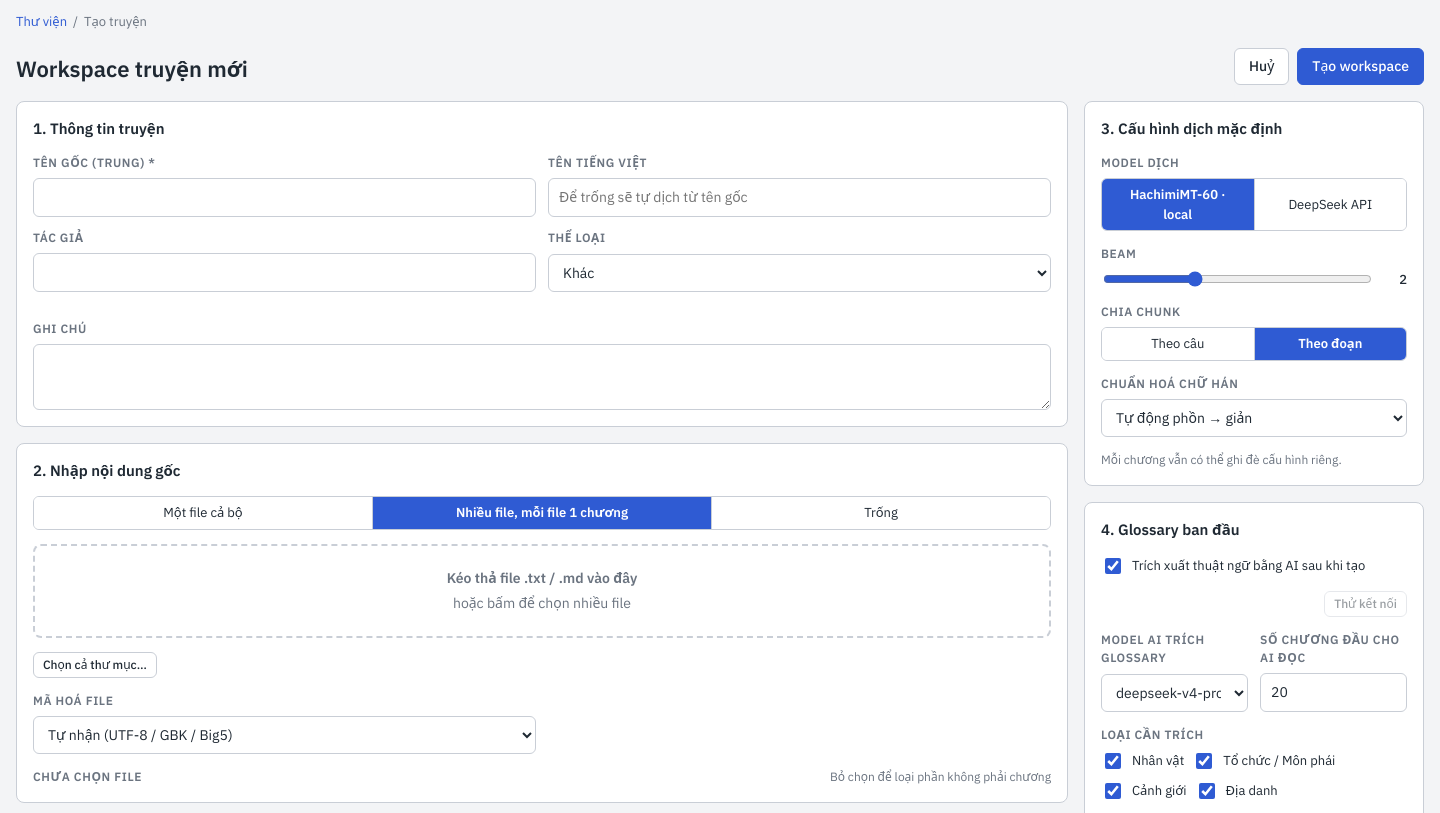
it: bỏ trống tên gốc thì không gửi request và focus ô tên gốc
The width and height of the screenshot is (1440, 813).
What coordinates should you click on to do the following:
click the button "Trống"
I would click on:
 (880, 513)
Its box is x1=711 y1=497 x2=1050 y2=529.
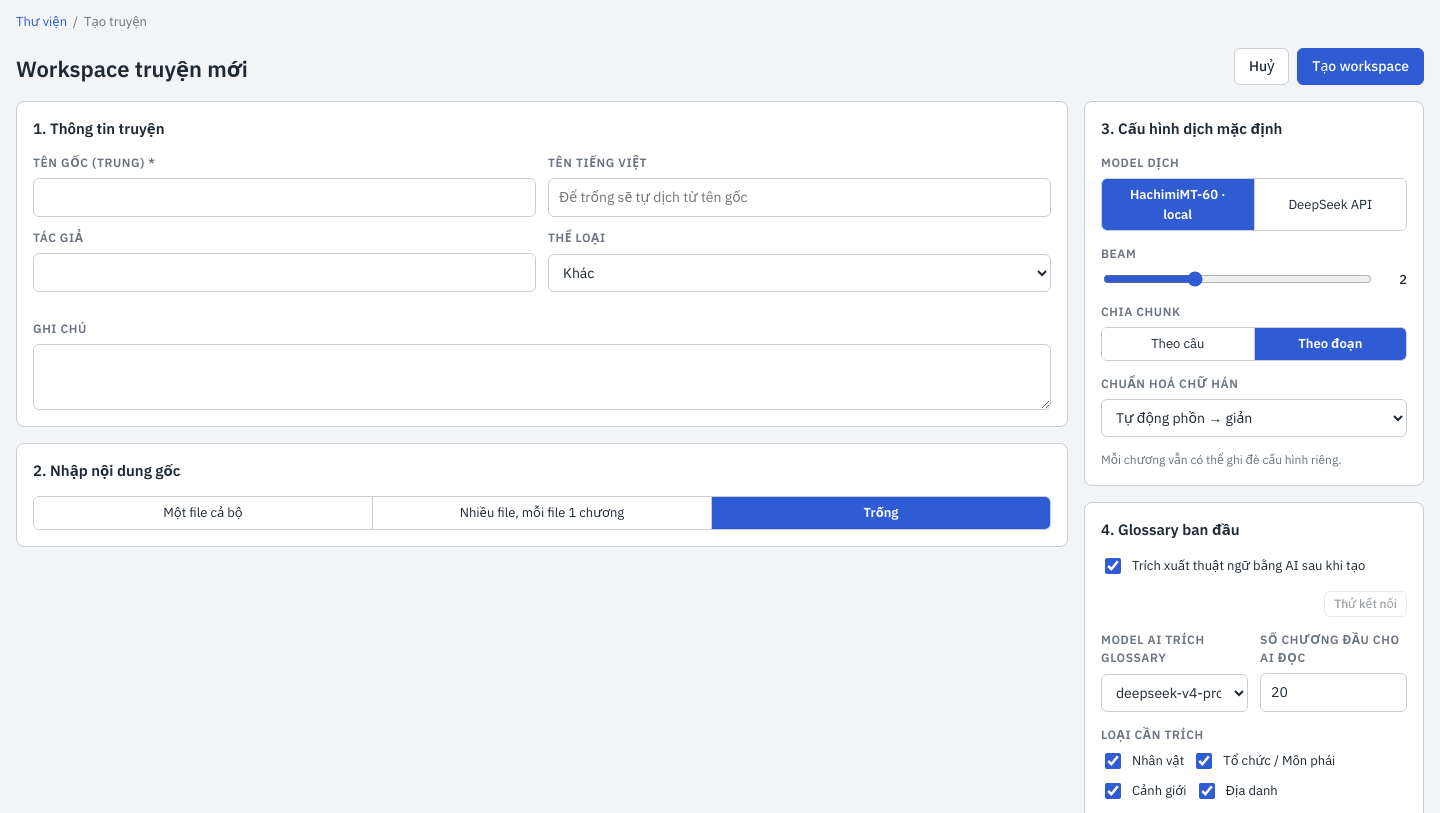
What coordinates should you click on to do the following:
click the button "Tạo workspace"
I would click on:
 (1361, 66)
Its box is x1=1297 y1=48 x2=1424 y2=84.
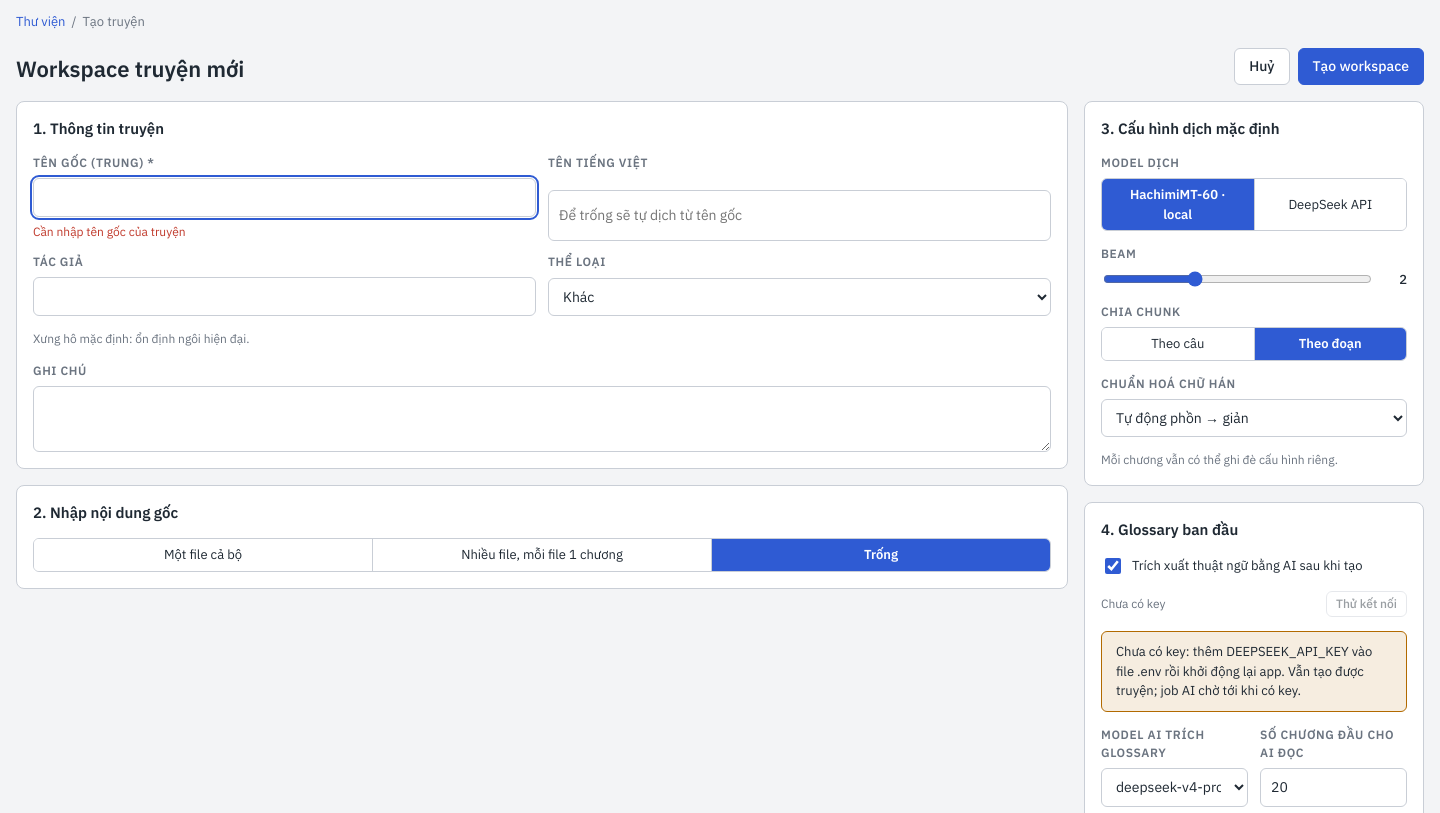
Now the text "Cần nhập tên gốc của truyện" is shown, box x1=33 y1=224 x2=186 y2=239
